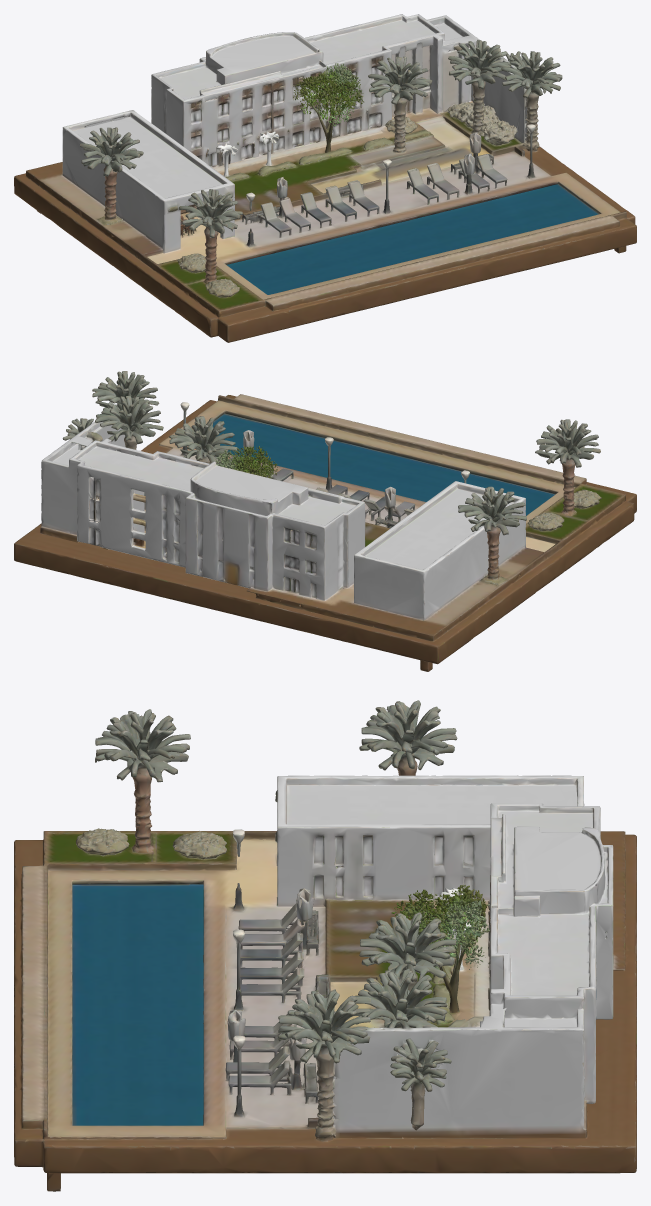
The model's file is movenpick-airport-hotel-2.glb.
3 views of the same model, one above another, from view 1: azimuth 30°, elevation 25°; view 2: azimuth 150°, elevation 25°; view 3: azimuth 270°, elevation 25° (orthographic). The views are drawn at different scales.
Size of the model in its own units: 0.9988 by 0.2751 by 0.7964.
1 material, 1 textured.
